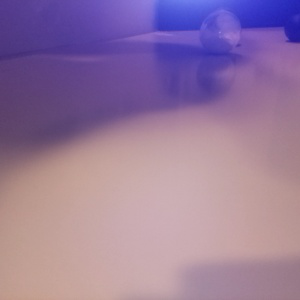alive_ball: (199, 10, 241, 55)
dead_ball: (284, 13, 300, 42)
